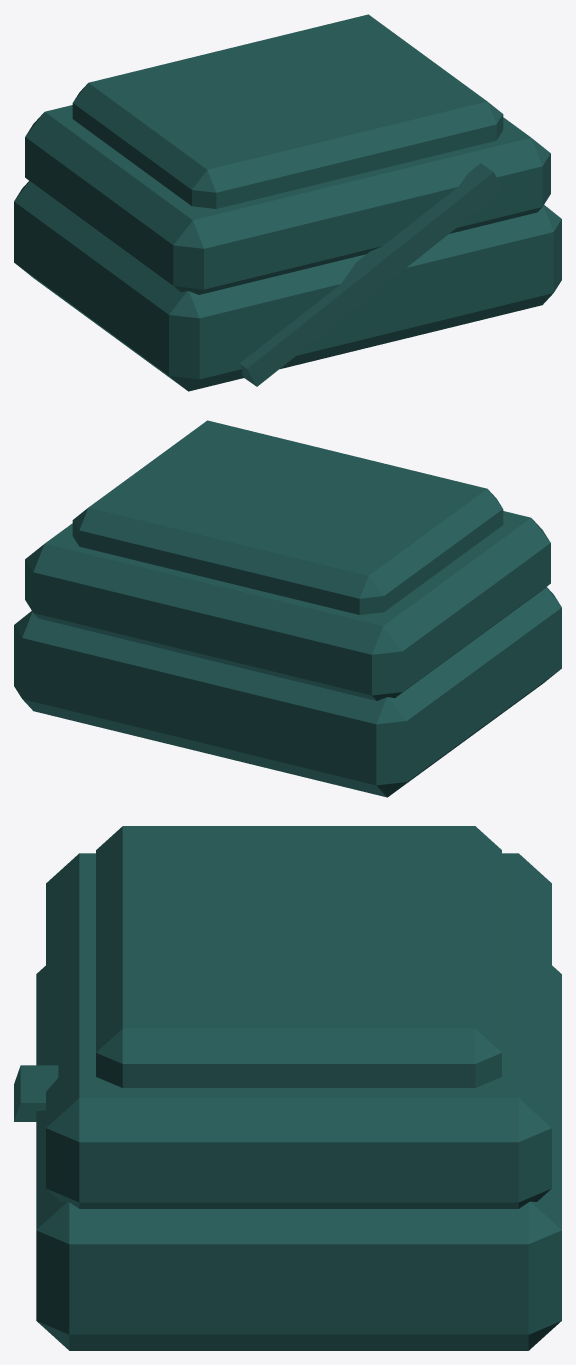
Rendered from headwear-turban.high.c8d92360.glb.
The picture shows the model from 3 angles, top to bottom: view 1: azimuth 30°, elevation 25°; view 2: azimuth 150°, elevation 25°; view 3: azimuth 270°, elevation 25°; orthographic projection. The views are drawn at different scales.
Parts seen in each view (by area): view 1: headwear-turban; view 2: headwear-turban; view 3: headwear-turban.
Part boxes in pixels (x1,y1,x2,y2): headwear-turban: (14,14,561,391); headwear-turban: (14,420,561,797); headwear-turban: (14,826,561,1350).
Size of the model in its own units: 1.01 by 0.49 by 0.8233.
